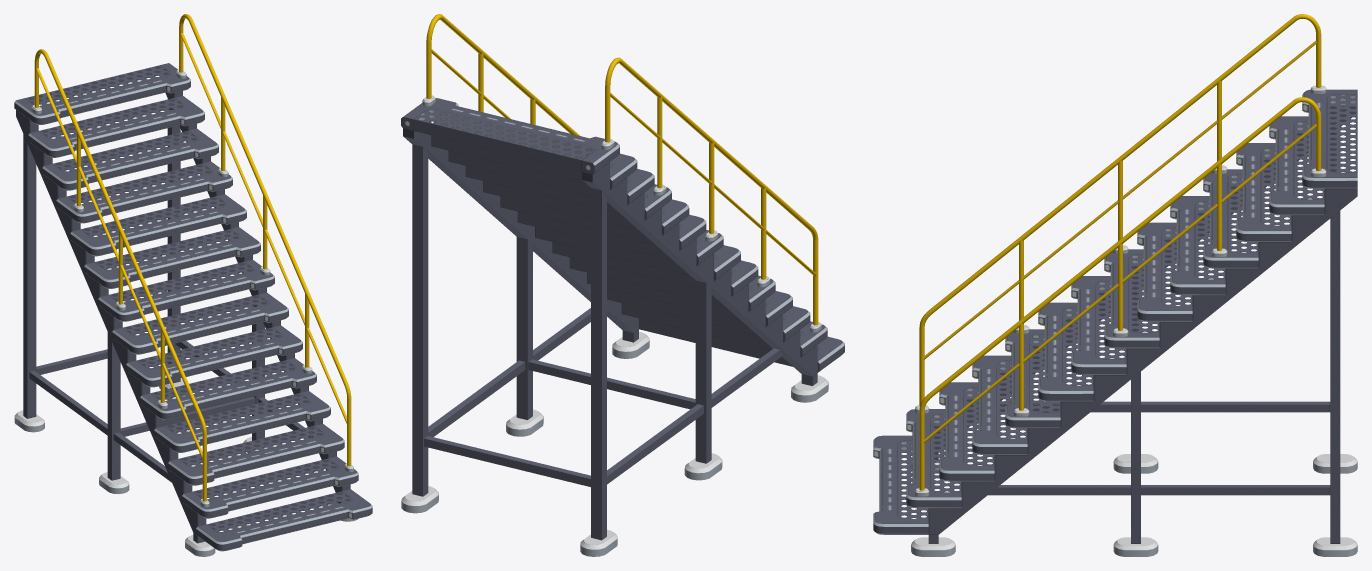
File: Stair_Ext_01.FBX
3 views of the same model, side by side, from view 1: azimuth 30°, elevation 25°; view 2: azimuth 150°, elevation 25°; view 3: azimuth 270°, elevation 25° (orthographic). The views are drawn at different scales.
Parts seen in each view (by area): view 1: Stair_Ext_01; view 2: Stair_Ext_01; view 3: Stair_Ext_01.
Part boxes in pixels (x1=…): Stair_Ext_01: x1=14, y1=14, x2=372, y2=556; Stair_Ext_01: x1=401, y1=14, x2=844, y2=556; Stair_Ext_01: x1=873, y1=14, x2=1357, y2=556.
Bounding box in the file's own units: 3.02 × 6.78 × 6.55.
